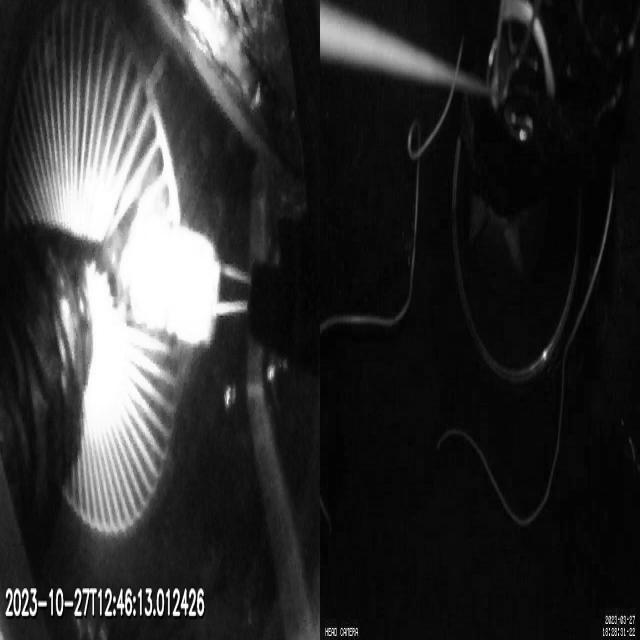head: (127, 213, 220, 343)
